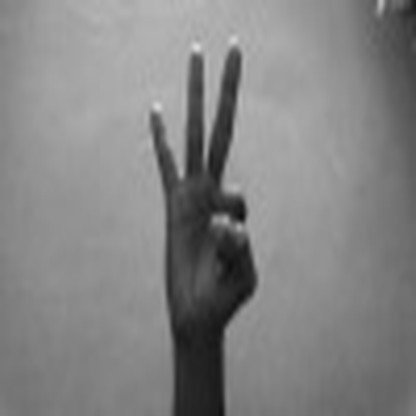f: (140, 33, 284, 326)
